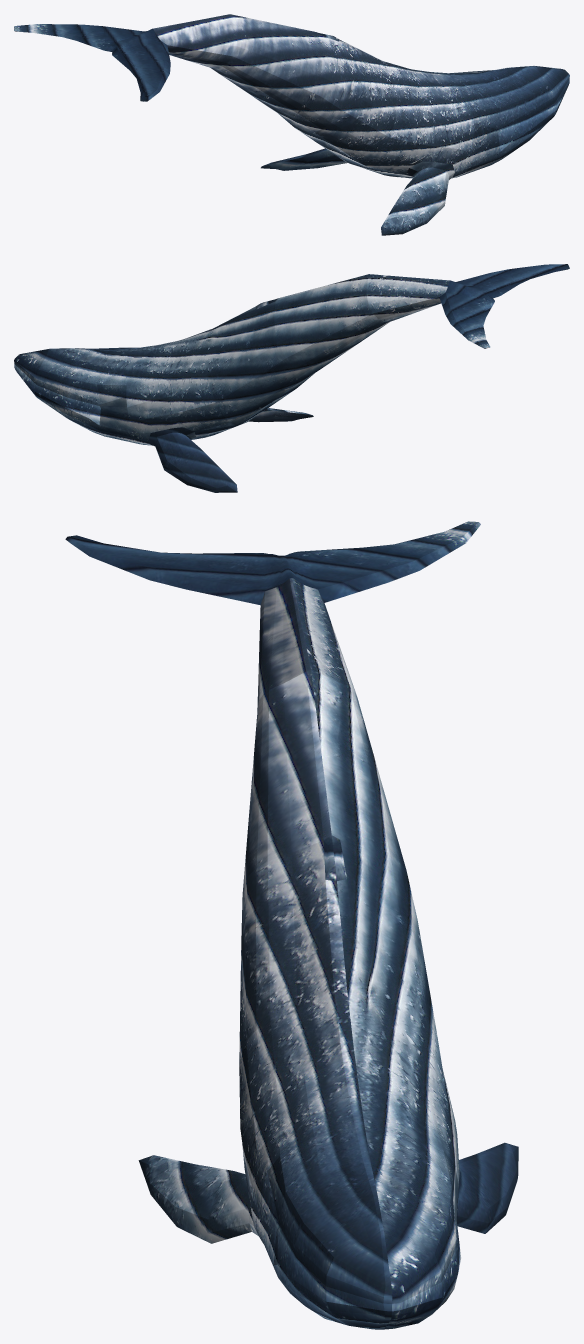
Rendered from ballena1.obj.
3 renders of one model, top to bottom at view 1: azimuth 30°, elevation 25°; view 2: azimuth 150°, elevation 25°; view 3: azimuth 270°, elevation 25°, orthographic. The views are drawn at different scales.
Parts seen in each view (by area): view 1: ballena:blue_whale; view 2: ballena:blue_whale; view 3: ballena:blue_whale.
Part boxes in pixels (x1=…): ballena:blue_whale: x1=14, y1=14, x2=569, y2=235; ballena:blue_whale: x1=14, y1=264, x2=569, y2=492; ballena:blue_whale: x1=65, y1=521, x2=518, y2=1329.
Bounding box in the file's own units: 4.27 × 1.79 × 1.7.
2 materials, 2 textured.
